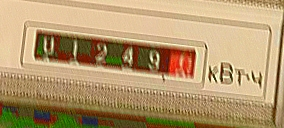0: (39, 33, 55, 55)
1: (66, 37, 80, 59)
2: (90, 41, 109, 64)
4: (119, 44, 135, 65)
7: (173, 48, 189, 69)
9: (145, 49, 160, 72)
screen: (15, 18, 211, 90)
